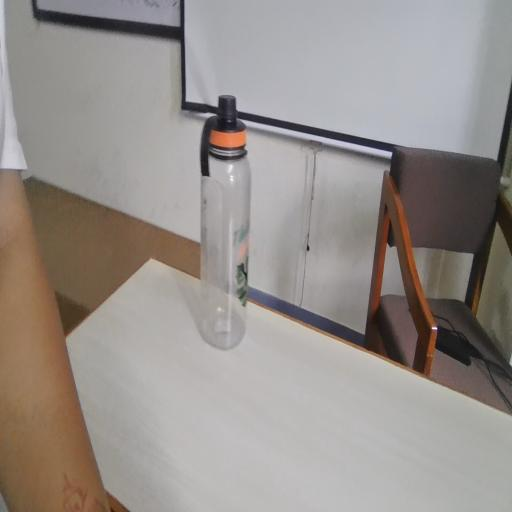Bottle: (182, 101, 270, 308)
